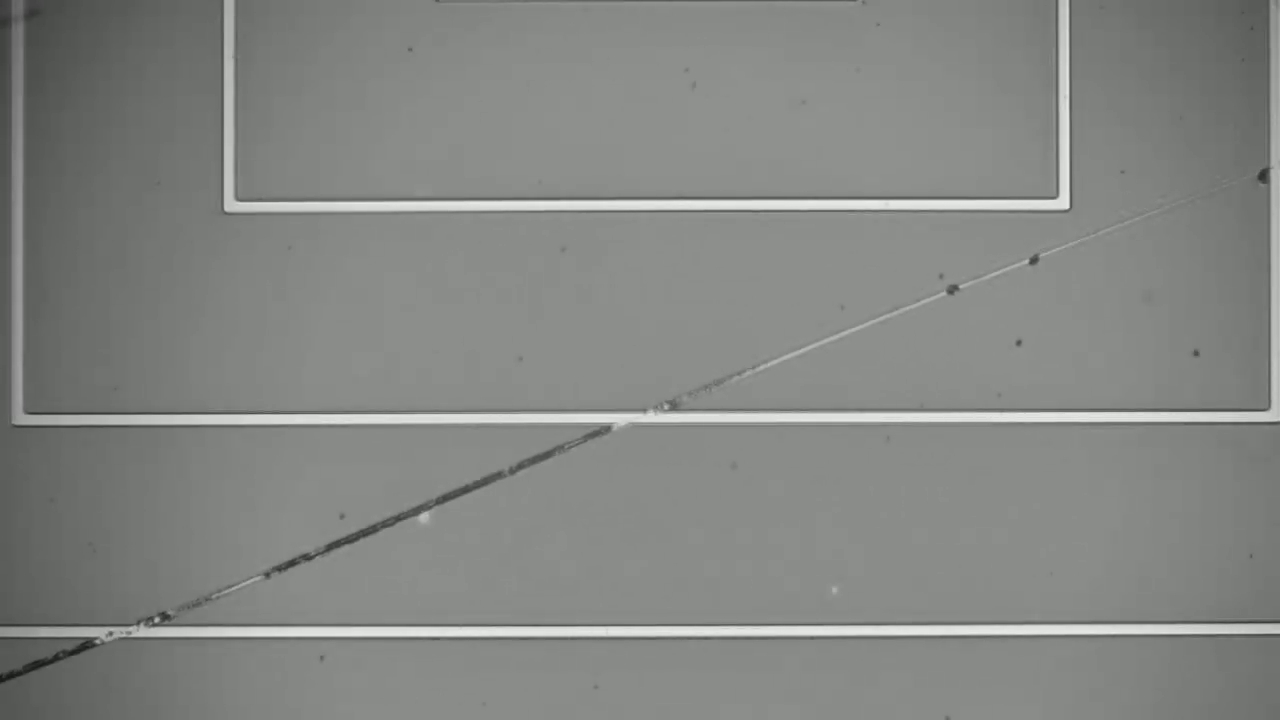scratch: (9, 170, 1263, 677)
